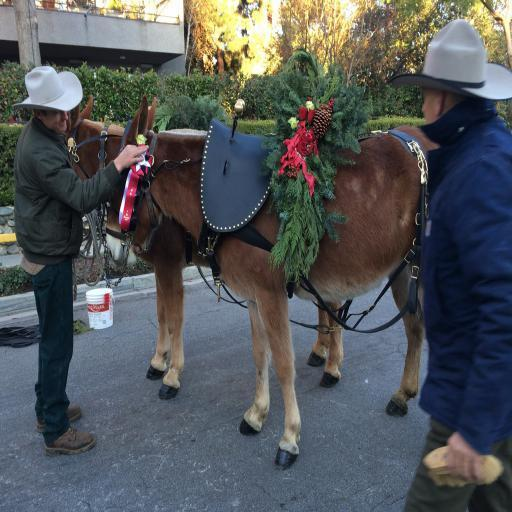horse: (103, 94, 440, 470), (65, 96, 345, 390)
